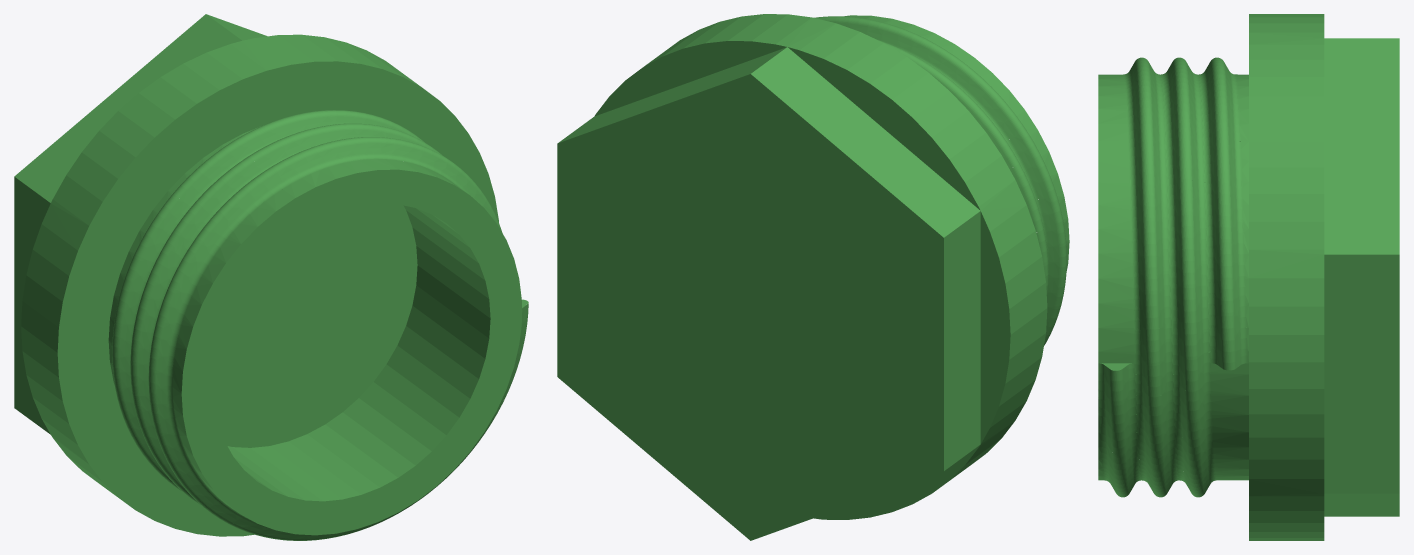
File: HOME_endcap_male.glb
3 views of the same model, side by side, from view 1: azimuth 30°, elevation 25°; view 2: azimuth 150°, elevation 25°; view 3: azimuth 270°, elevation 25° (orthographic). The views are drawn at different scales.
Parts seen in each view (by area): view 1: world; view 2: world; view 3: world.
Boxes of the visible parts, x1,y1,x2,y2 form: world: (14,14,528,540); world: (557,14,1069,540); world: (1098,14,1399,540).
Size of the model in its own units: 88.9 by 88.9 by 50.8.
